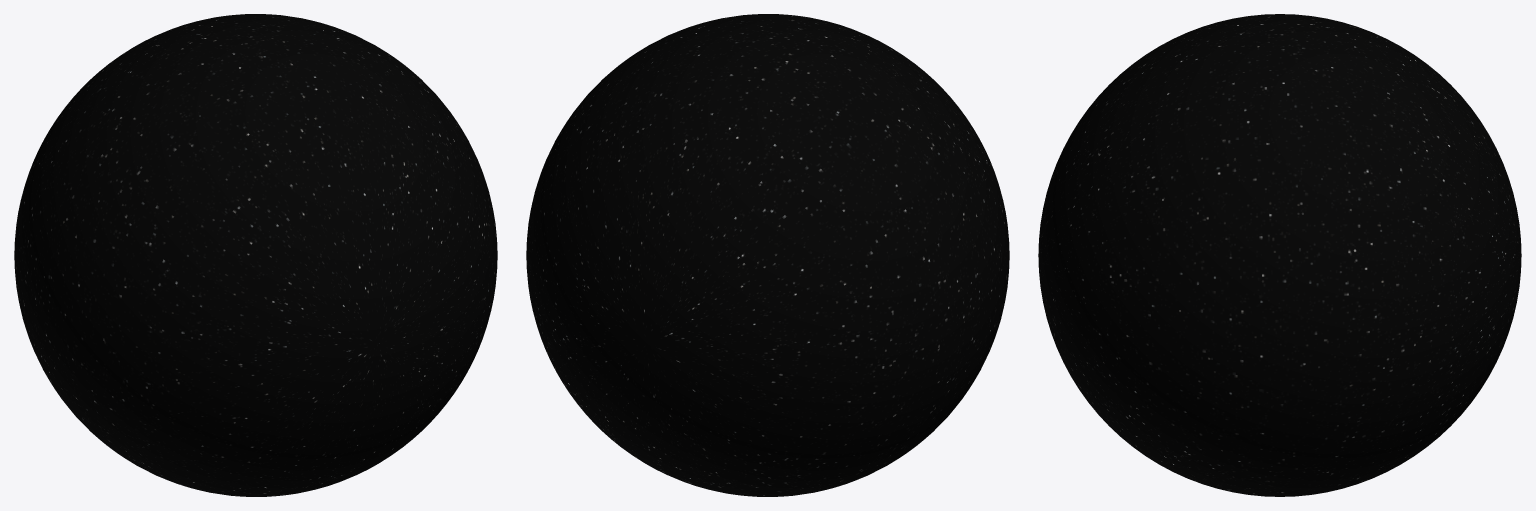
The model's file is star_dome.obj.
The picture shows the model from 3 angles, left to right: view 1: azimuth 30°, elevation 25°; view 2: azimuth 150°, elevation 25°; view 3: azimuth 270°, elevation 25°; orthographic projection.
Parts seen in each view (by area): view 1: star_dome; view 2: star_dome; view 3: star_dome.
Boxes of the visible parts, x1,y1,x2,y2 form: star_dome: (14, 14, 497, 496); star_dome: (526, 14, 1009, 496); star_dome: (1038, 14, 1521, 496).
Size of the model in its own units: 900 by 900 by 900.
1 material, 1 textured.
